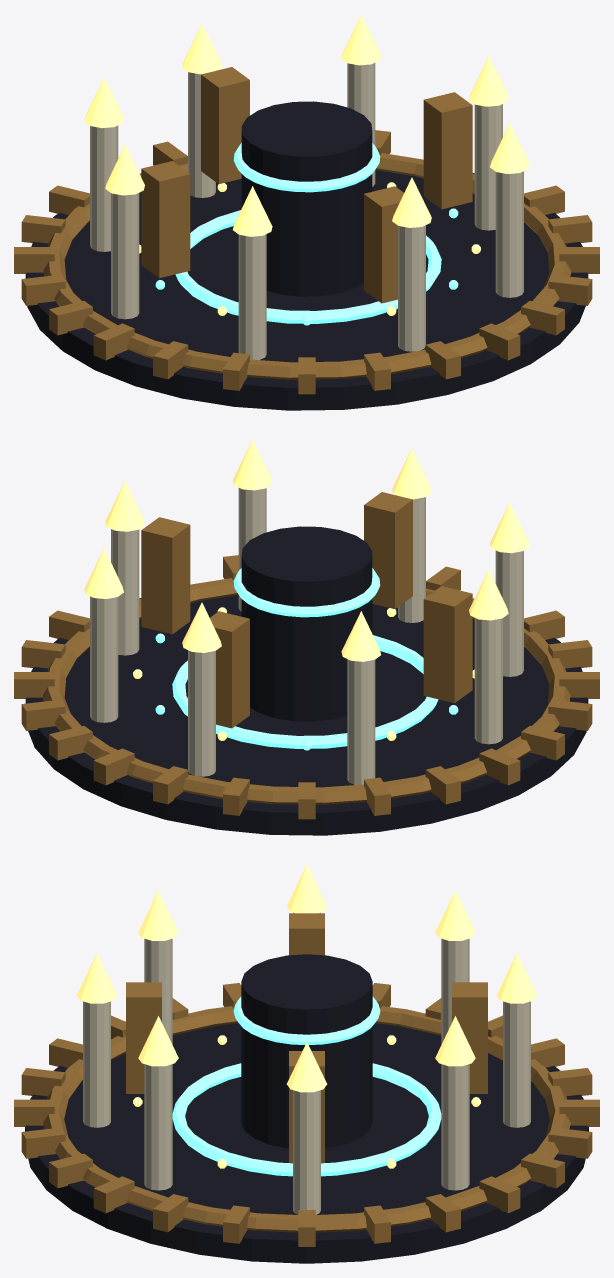
File: 01_stellar_foundry.glb
The picture shows the model from 3 angles, top to bottom: view 1: azimuth 30°, elevation 25°; view 2: azimuth 150°, elevation 25°; view 3: azimuth 270°, elevation 25°; orthographic projection.
Visible parts, largest first — view 1: foundry_floor_nocol, foundry_furnace_nocol, foundry_outer_ring_nocol, foundry_counterweight_0_nocol, foundry_counterweight_4_nocol, foundry_counterweight_2_nocol, foundry_inner_ring_nocol, foundry_counterweight_6_nocol, foundry_pylon_7_nocol, foundry_pylon_4_nocol, foundry_pylon_5_nocol, foundry_pylon_6_nocol (+31 smaller); view 2: foundry_floor_nocol, foundry_furnace_nocol, foundry_outer_ring_nocol, foundry_counterweight_0_nocol, foundry_counterweight_4_nocol, foundry_counterweight_6_nocol, foundry_inner_ring_nocol, foundry_counterweight_2_nocol, foundry_pylon_1_nocol, foundry_pylon_4_nocol, foundry_pylon_3_nocol, foundry_pylon_2_nocol (+31 smaller); view 3: foundry_floor_nocol, foundry_furnace_nocol, foundry_outer_ring_nocol, foundry_inner_ring_nocol, foundry_pylon_1_nocol, foundry_pylon_7_nocol, foundry_pylon_2_nocol, foundry_pylon_6_nocol, foundry_pylon_0_nocol, foundry_counterweight_2_nocol, foundry_counterweight_6_nocol, foundry_furnace_glow_nocol (+29 smaller).
Part boxes in pixels (left/top/right/bottom): foundry_floor_nocol: left=25, top=170, right=588, bottom=410; foundry_furnace_nocol: left=241, top=101, right=372, bottom=296; foundry_outer_ring_nocol: left=43, top=153, right=571, bottom=379; foundry_counterweight_0_nocol: left=423, top=92, right=472, bottom=209; foundry_counterweight_4_nocol: left=141, top=161, right=190, bottom=278; foundry_counterweight_2_nocol: left=201, top=67, right=249, bottom=183; foundry_inner_ring_nocol: left=175, top=210, right=441, bottom=323; foundry_counterweight_6_nocol: left=364, top=186, right=403, bottom=303; foundry_pylon_7_nocol: left=495, top=171, right=523, bottom=297; foundry_pylon_4_nocol: left=111, top=193, right=139, bottom=319; foundry_pylon_5_nocol: left=238, top=234, right=266, bottom=359; foundry_pylon_6_nocol: left=398, top=225, right=425, bottom=351; foundry_floor_nocol: left=25, top=595, right=588, bottom=835; foundry_furnace_nocol: left=241, top=526, right=372, bottom=721; foundry_outer_ring_nocol: left=42, top=578, right=570, bottom=804; foundry_counterweight_0_nocol: left=141, top=517, right=190, bottom=634; foundry_counterweight_4_nocol: left=423, top=586, right=472, bottom=703; foundry_counterweight_6_nocol: left=364, top=492, right=412, bottom=608; foundry_inner_ring_nocol: left=172, top=635, right=438, bottom=748; foundry_counterweight_2_nocol: left=210, top=611, right=249, bottom=728; foundry_pylon_1_nocol: left=90, top=596, right=118, bottom=722; foundry_pylon_4_nocol: left=474, top=618, right=502, bottom=744; foundry_pylon_3_nocol: left=347, top=659, right=375, bottom=784; foundry_pylon_2_nocol: left=188, top=650, right=215, bottom=776; foundry_floor_nocol: left=25, top=1023, right=588, bottom=1263; foundry_furnace_nocol: left=241, top=954, right=372, bottom=1148; foundry_outer_ring_nocol: left=43, top=1006, right=570, bottom=1232; foundry_inner_ring_nocol: left=172, top=1063, right=441, bottom=1176; foundry_pylon_1_nocol: left=441, top=1064, right=469, bottom=1190; foundry_pylon_7_nocol: left=144, top=1064, right=172, bottom=1190; foundry_pylon_2_nocol: left=503, top=1001, right=530, bottom=1127; foundry_pylon_6_nocol: left=83, top=1001, right=110, bottom=1127; foundry_pylon_0_nocol: left=293, top=1090, right=320, bottom=1214; foundry_counterweight_2_nocol: left=452, top=982, right=487, bottom=1093; foundry_counterweight_6_nocol: left=126, top=982, right=161, bottom=1093; foundry_furnace_glow_nocol: left=233, top=996, right=380, bottom=1044.
Bounding box in the file's own units: 37.4 × 13.5 × 37.4.
